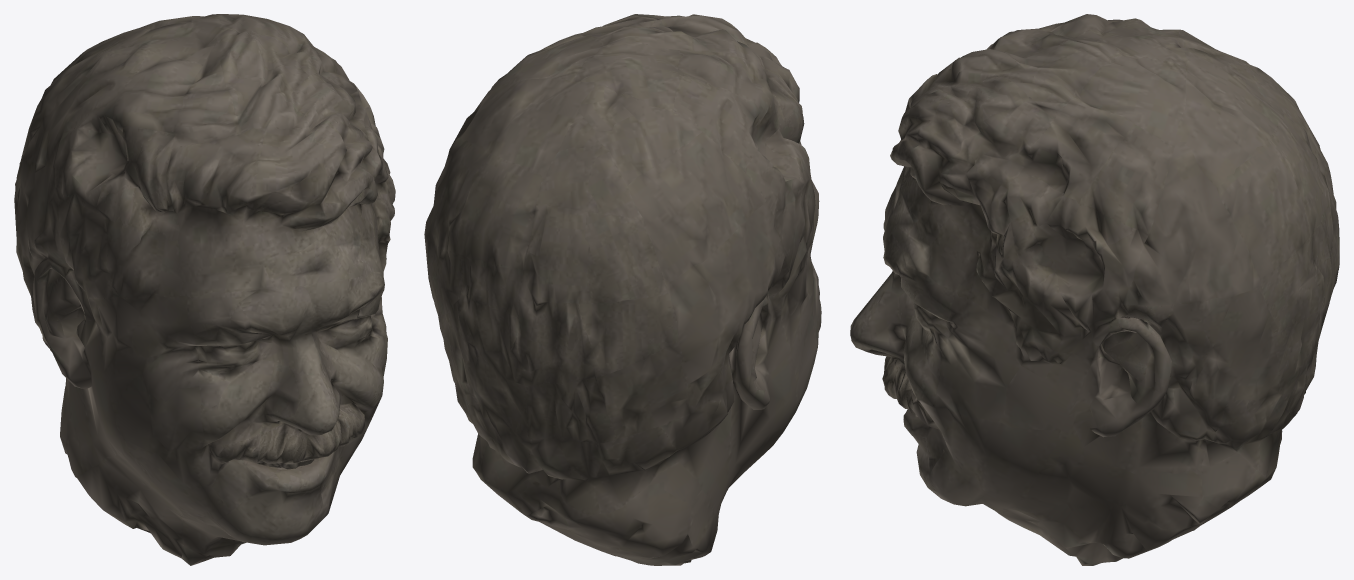
Rendered from Green-low.glb.
3 views of the same model, side by side, from view 1: azimuth 30°, elevation 25°; view 2: azimuth 150°, elevation 25°; view 3: azimuth 270°, elevation 25° (orthographic). The views are drawn at different scales.
Bounding box in the file's own units: 1.21 × 1.9 × 1.59.
1 material, 1 textured.
